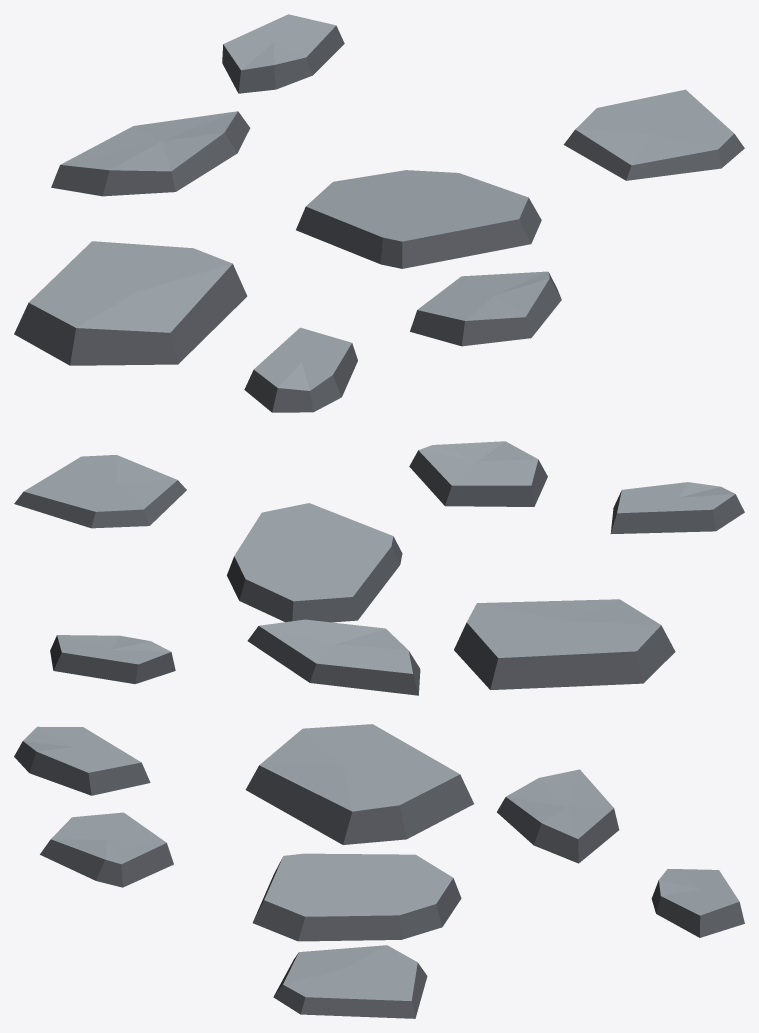
The model's file is XSK_01.FBX.
The picture shows the model from 3 angles, top to bottom: view 1: azimuth 30°, elevation 25°; view 2: azimuth 150°, elevation 25°; view 3: azimuth 270°, elevation 25°; orthographic projection. The views are drawn at different scales.
Parts seen in each view (by area): view 1: XSK_06, XSK_03, XSK_01, XSK_04, XSK_05, XSK_07, XSK_02; view 2: XSK_06, XSK_03, XSK_04, XSK_01, XSK_05, XSK_07, XSK_02; view 3: XSK_06, XSK_03, XSK_01, XSK_04, XSK_05, XSK_07, XSK_02.
Part boxes in pixels (left/top/right/bottom): XSK_06: left=14, top=241, right=247, bottom=365; XSK_03: left=296, top=170, right=541, bottom=268; XSK_01: left=563, top=89, right=744, bottom=180; XSK_04: left=51, top=111, right=250, bottom=196; XSK_05: left=410, top=271, right=561, bottom=346; XSK_07: left=244, top=327, right=357, bottom=412; XSK_02: left=222, top=14, right=344, bottom=93; XSK_06: left=454, top=599, right=675, bottom=689; XSK_03: left=227, top=503, right=402, bottom=622; XSK_04: left=247, top=619, right=420, bottom=695; XSK_01: left=14, top=455, right=186, bottom=528; XSK_05: left=409, top=441, right=547, bottom=506; XSK_07: left=610, top=482, right=744, bottom=533; XSK_02: left=50, top=635, right=175, bottom=683; XSK_06: left=245, top=724, right=473, bottom=844; XSK_03: left=252, top=853, right=461, bottom=941; XSK_01: left=273, top=945, right=427, bottom=1018; XSK_04: left=497, top=769, right=619, bottom=863; XSK_05: left=40, top=812, right=173, bottom=887; XSK_07: left=14, top=726, right=150, bottom=795; XSK_02: left=651, top=869, right=744, bottom=937.
Bounding box in the file's own units: 4.16 × 0.395 × 4.07.
